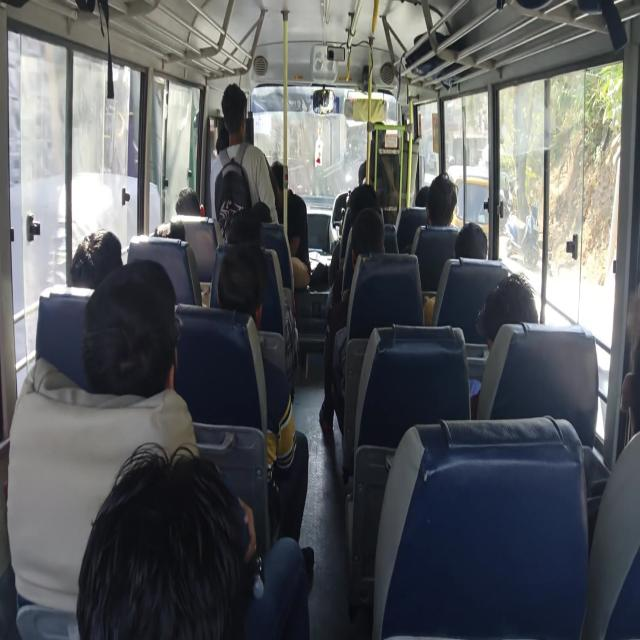person: (83, 461, 248, 640), (75, 269, 178, 370), (51, 221, 121, 308), (486, 278, 537, 378), (216, 255, 262, 338), (599, 350, 640, 433), (255, 142, 296, 204), (357, 208, 388, 267), (222, 91, 253, 146), (150, 217, 190, 257), (428, 178, 456, 235), (227, 212, 259, 255), (168, 176, 194, 222), (346, 183, 370, 216), (245, 204, 277, 225), (458, 227, 479, 258), (417, 190, 432, 211)
